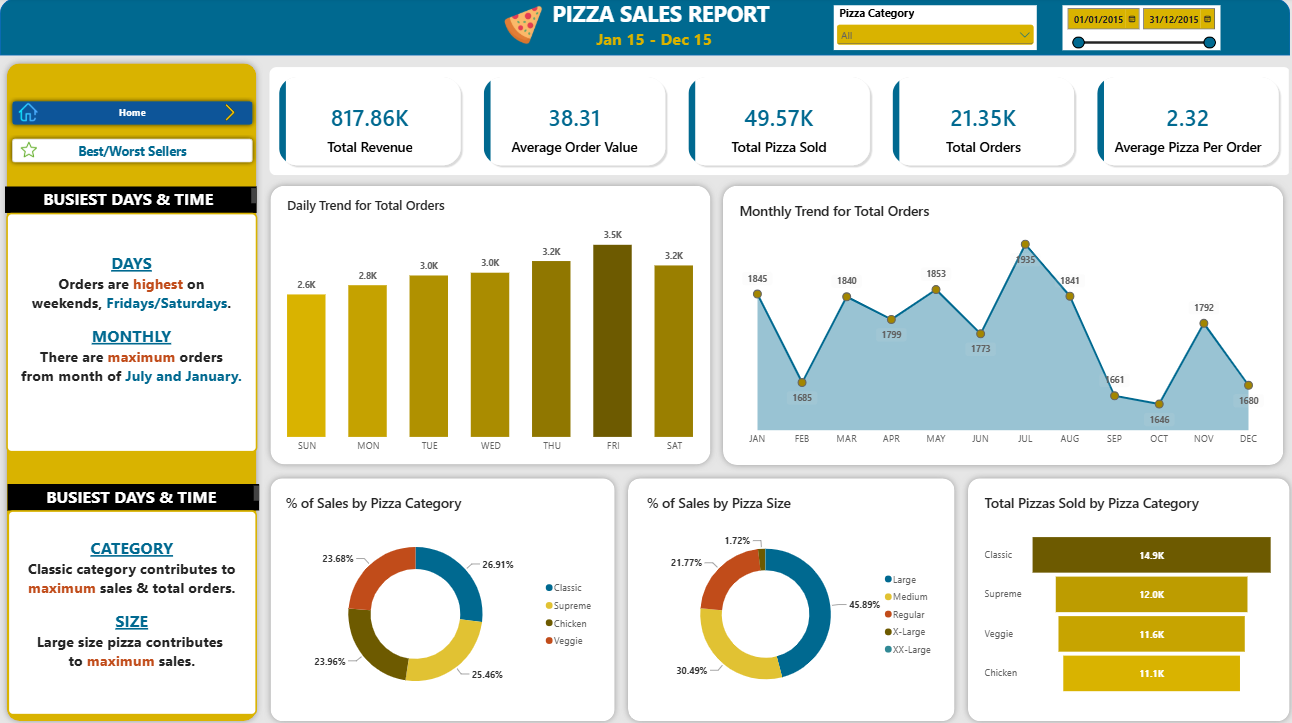

Layout of this report page (visuals, bound fields, positions):
{"tool":"powerbi","page":{"name":"Home","canvas":[1920,1080],"ordinal":0},"visuals":[{"type":"cardVisual","fields":{"Data":["pizza_sales.Total Revenue","pizza_sales.Average Order Value","pizza_sales.Total Pizza Sold","pizza_sales.Total Orders","pizza_sales.Average Pizza Per Order"]},"box":[397.3,100.9,1514.9,162.6],"z":0},{"type":"shape","box":[0,0,1911.2,83.8],"z":1000},{"type":"textbox","box":[819.1,0,322.8,42.9],"z":2000},{"type":"shape","box":[0,85.8,390,994.5],"z":3000},{"type":"shape","box":[390,266.8,671.7,432.9],"z":4000},{"type":"textbox","box":[884,42,216,42],"z":5000},{"type":"image","box":[736,10,80,58],"z":6000},{"type":"columnChart","title":"Daily Trend for Total Orders","fields":{"Category":["pizza_sales.Order Day"],"Y":["pizza_sales.Total Orders"]},"box":[408.6,285.5,636.3,395.6],"z":7000},{"type":"shape","box":[1061.2,266.2,850,433.8],"z":8000},{"type":"areaChart","title":"Monthly Trend for Total Orders","fields":{"Category":["pizza_sales.Order Month"],"Y":["pizza_sales.Total Orders"]},"box":[1078.8,285,812.5,396.2],"z":9000},{"type":"shape","box":[390,699.7,529.9,380],"z":10000},{"type":"shape","box":[919.9,699.7,503.8,380],"z":11000},{"type":"shape","box":[1423.7,699.7,496.3,380],"z":12000},{"type":"donutChart","title":"% of Sales by Pizza Category","fields":{"Category":["pizza_sales.pizza_category"],"Y":["pizza_sales.Total Revenue"]},"box":[408,718,494,344],"z":13000},{"type":"donutChart","title":"% of Sales by Pizza Size","fields":{"Category":["pizza_sales.pizza_size"],"Y":["pizza_sales.Total Revenue"]},"box":[942,718,462,344],"z":14000},{"type":"funnel","title":"Total Pizzas Sold by Pizza Category","fields":{"Category":["pizza_sales.pizza_category"],"Y":["pizza_sales.Total Pizza Sold"]},"box":[1442.4,718.4,460.9,343.3],"z":15000},{"type":"textbox","box":[7.8,277.8,373.2,39.2],"z":16000},{"type":"textbox","box":[8.9,316.7,372.2,355.6],"z":17000},{"type":"textbox","box":[11.1,717.8,373.2,39.2],"z":18000},{"type":"textbox","box":[11.2,757.6,369.5,304.1],"z":19000},{"type":"slicer","fields":{"Values":["pizza_sales.pizza_category"]},"box":[1235,9,301,66],"z":20000},{"type":"slicer","fields":{"Values":["pizza_sales.order_date"]},"box":[1573.8,10,233.8,66.2],"z":21000},{"type":"pageNavigator","box":[10.3,199.7,370.5,49.4],"z":22000},{"type":"pageNavigator","box":[10.3,144.1,370.5,49.4],"z":23000},{"type":"image","box":[315,156,51.5,24.7],"z":23001},{"type":"image","box":[28,149,28,39],"z":23002},{"type":"image","box":[20,212,45,24],"z":23003}]}

Visuals, with their boxes in screenshot pixels (x1, y1, x2, y2), scaled from the page's 1920x1080 canvas onto the 1292x723 screenshot:
cardVisual - pizza_sales.Total Revenue x pizza_sales.Average Order Value: left=267, top=68, right=1287, bottom=176
shape: left=0, top=0, right=1286, bottom=56
textbox: left=551, top=0, right=768, bottom=29
shape: left=0, top=57, right=262, bottom=722
shape: left=262, top=179, right=714, bottom=468
textbox: left=595, top=28, right=740, bottom=56
image: left=495, top=7, right=549, bottom=46
"Daily Trend for Total Orders" columnChart: left=275, top=191, right=703, bottom=456
shape: left=714, top=178, right=1286, bottom=469
"Monthly Trend for Total Orders" areaChart: left=726, top=191, right=1273, bottom=456
shape: left=262, top=468, right=619, bottom=722
shape: left=619, top=468, right=958, bottom=722
shape: left=958, top=468, right=1291, bottom=722
"% of Sales by Pizza Category" donutChart: left=275, top=481, right=607, bottom=711
"% of Sales by Pizza Size" donutChart: left=634, top=481, right=945, bottom=711
"Total Pizzas Sold by Pizza Category" funnel: left=971, top=481, right=1281, bottom=711
textbox: left=5, top=186, right=256, bottom=212
textbox: left=6, top=212, right=256, bottom=450
textbox: left=7, top=481, right=259, bottom=507
textbox: left=8, top=507, right=256, bottom=711
slicer - pizza_sales.pizza_category: left=831, top=6, right=1034, bottom=50
slicer - pizza_sales.order_date: left=1059, top=7, right=1216, bottom=51
pageNavigator: left=7, top=134, right=256, bottom=167
pageNavigator: left=7, top=96, right=256, bottom=130
image: left=212, top=104, right=247, bottom=121
image: left=19, top=100, right=38, bottom=126
image: left=13, top=142, right=44, bottom=158
